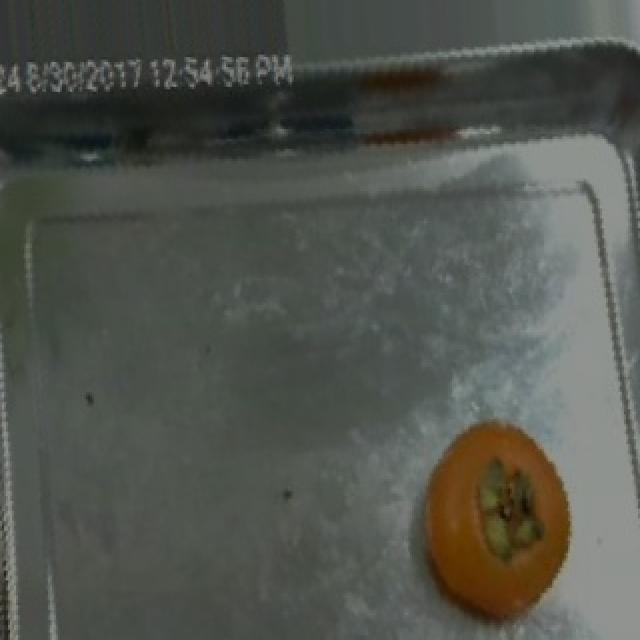Fruit: (416, 404, 582, 638)
